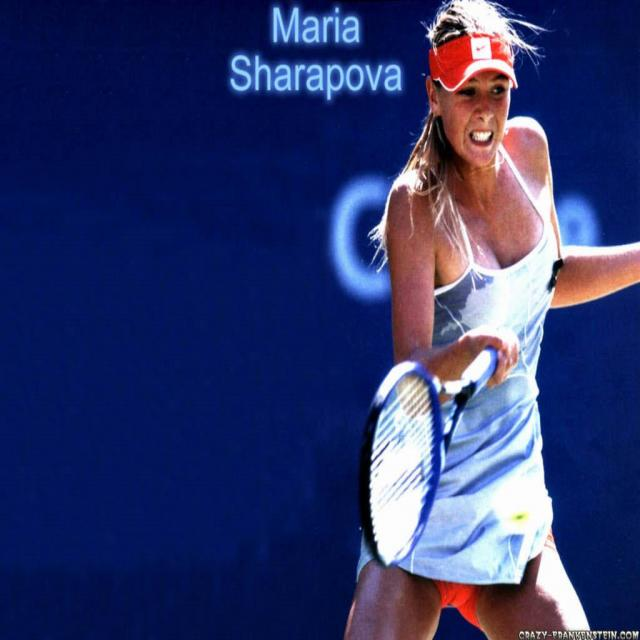nomask: (439, 48, 511, 165)
